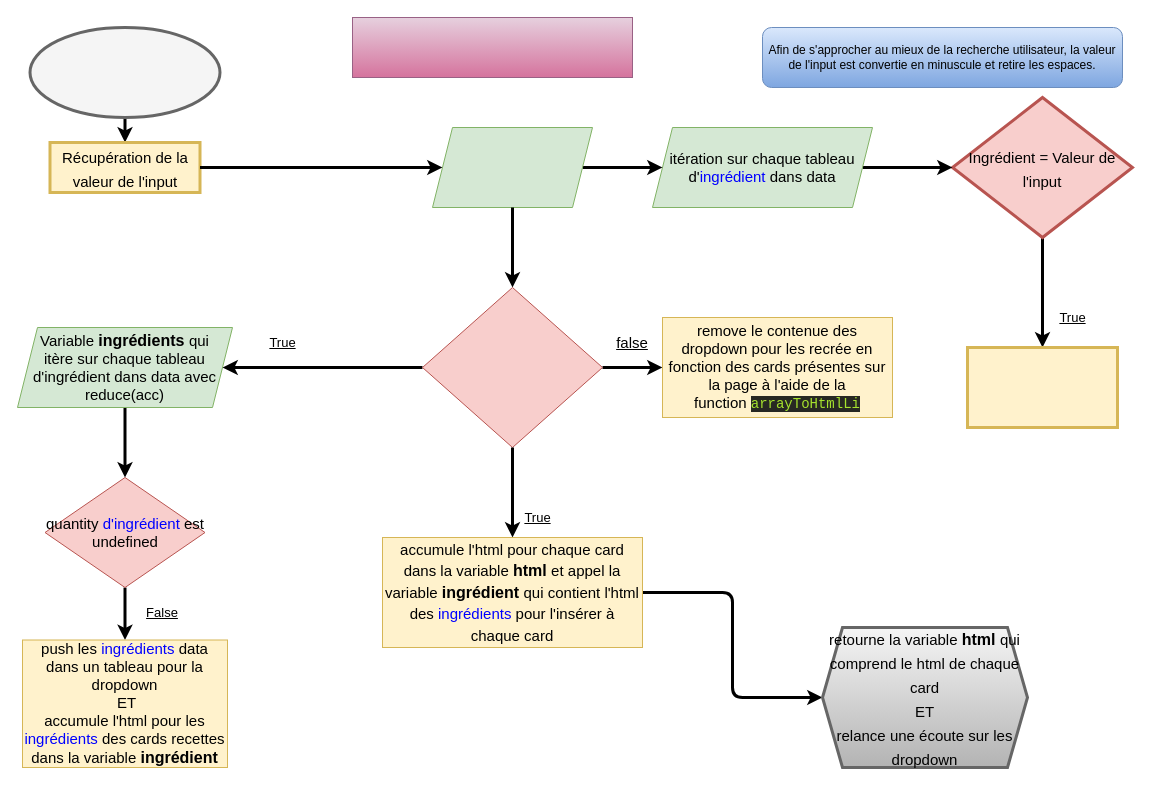
Some shapes in this 1151 by 787 pixel diagram are drawn without their labels. The centre of each missing label's shape, as x and y in pixels:
"Algorithme 1" belongs at point (492, 47).
"L'utilisateur lance une recherche dans l'input" belongs at point (124, 72).
"Passer IsMatchIngredient à true" belongs at point (1042, 387).
"Valeur de l'input = nom de la recette || description || IsMatchIngredient" belongs at point (512, 367).
"variable html qui itère sur les data recettes data avec reduce (acc)" belongs at point (512, 167).
